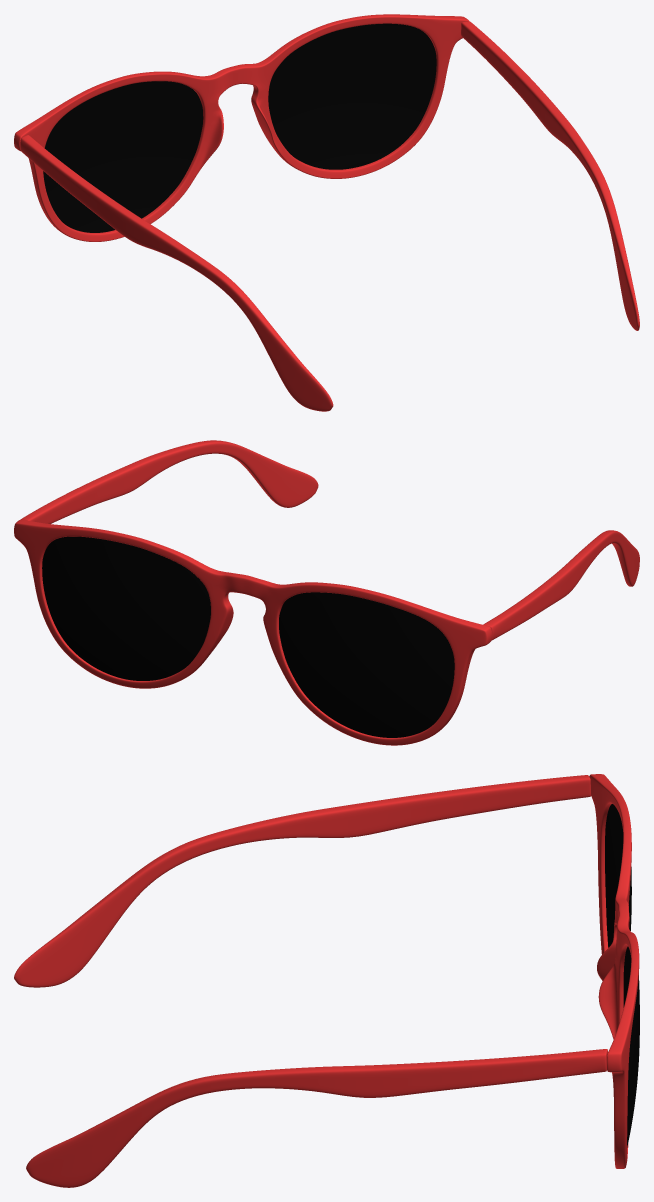
3 views of the same model, one above another, from view 1: azimuth 30°, elevation 25°; view 2: azimuth 150°, elevation 25°; view 3: azimuth 270°, elevation 25° (orthographic). The views are drawn at different scales.
Visible parts, largest first — view 1: Glasses:Sphere002, Glasses:Sphere001, Glasses:Line001, Glasses:Line002, Glasses:Line003; view 2: Glasses:Sphere001, Glasses:Sphere002, Glasses:Line001, Glasses:Line003, Glasses:Line002; view 3: Glasses:Line002, Glasses:Line003, Glasses:Line001, Glasses:Sphere001, Glasses:Sphere002.
Part boxes in pixels (left/top/right/bottom): Glasses:Sphere002: left=268, top=23, right=436, bottom=169; Glasses:Sphere001: left=43, top=81, right=203, bottom=232; Glasses:Line001: left=14, top=14, right=469, bottom=241; Glasses:Line002: left=20, top=135, right=333, bottom=411; Glasses:Line003: left=461, top=21, right=639, bottom=330; Glasses:Sphere001: left=279, top=592, right=454, bottom=737; Glasses:Sphere002: left=42, top=536, right=210, bottom=680; Glasses:Line001: left=14, top=519, right=492, bottom=745; Glasses:Line003: left=21, top=440, right=318, bottom=523; Glasses:Line002: left=483, top=530, right=639, bottom=640; Glasses:Line002: left=14, top=775, right=590, bottom=987; Glasses:Line003: left=26, top=1049, right=607, bottom=1187; Glasses:Line001: left=589, top=774, right=639, bottom=1168; Glasses:Sphere001: left=605, top=804, right=631, bottom=947; Glasses:Sphere002: left=623, top=946, right=639, bottom=1147.
Bounding box in the file's own units: 16.22 × 5.16 × 15.23.
